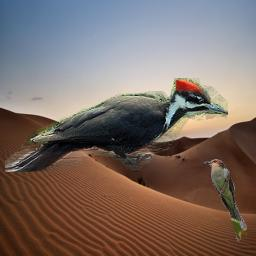Cuckoo: (204, 159, 247, 242)
Woodpecker: (5, 78, 228, 172)
